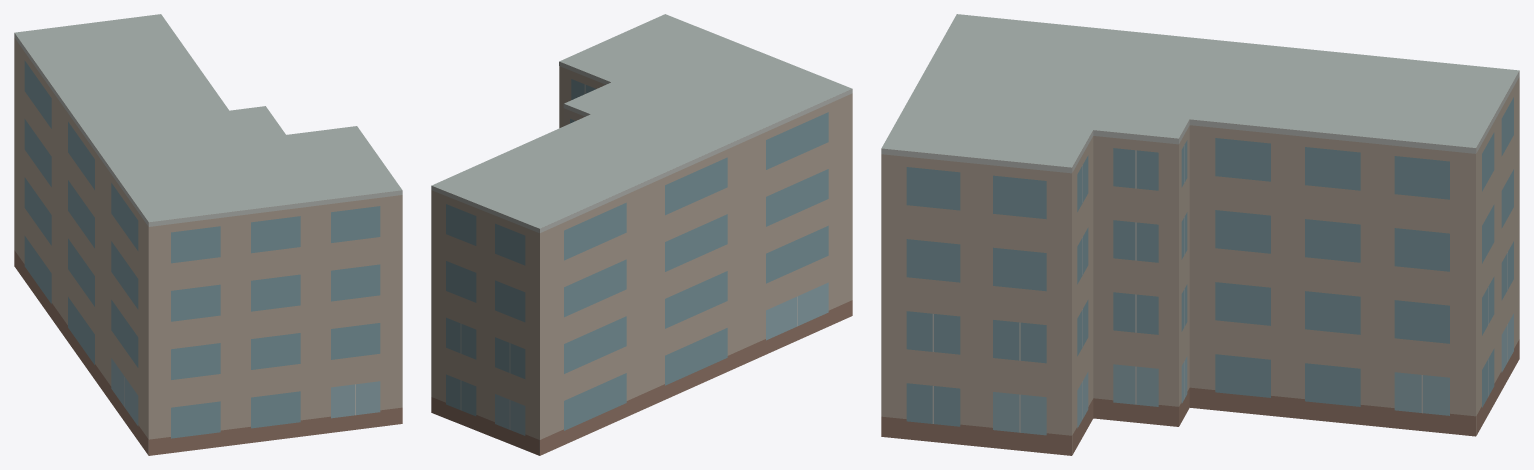
Rendered from residential-a31c3567-fa87-4959-9c45-63ff0b0a1c2c.glb.
3 renders of one model, left to right at view 1: azimuth 30°, elevation 25°; view 2: azimuth 150°, elevation 25°; view 3: azimuth 270°, elevation 25°, orthographic. The views are drawn at different scales.
Visible parts, largest first — view 1: residential-a31c3567-fa87-4959-9c45-63ff0b0a1c2c.tmp; view 2: residential-a31c3567-fa87-4959-9c45-63ff0b0a1c2c.tmp; view 3: residential-a31c3567-fa87-4959-9c45-63ff0b0a1c2c.tmp.
Part boxes in pixels (bbox=[...]): residential-a31c3567-fa87-4959-9c45-63ff0b0a1c2c.tmp: bbox=[14, 14, 402, 455]; residential-a31c3567-fa87-4959-9c45-63ff0b0a1c2c.tmp: bbox=[431, 14, 852, 455]; residential-a31c3567-fa87-4959-9c45-63ff0b0a1c2c.tmp: bbox=[881, 14, 1519, 455].
Bounding box in the file's own units: 13.95 × 12.2 × 24.49.
